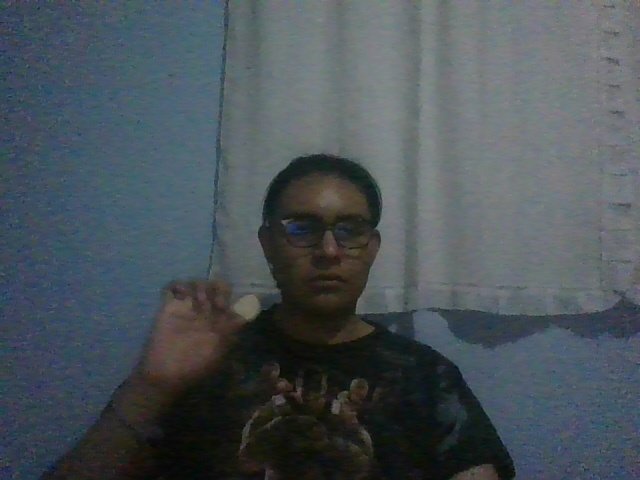goma: (231, 294, 262, 324)
